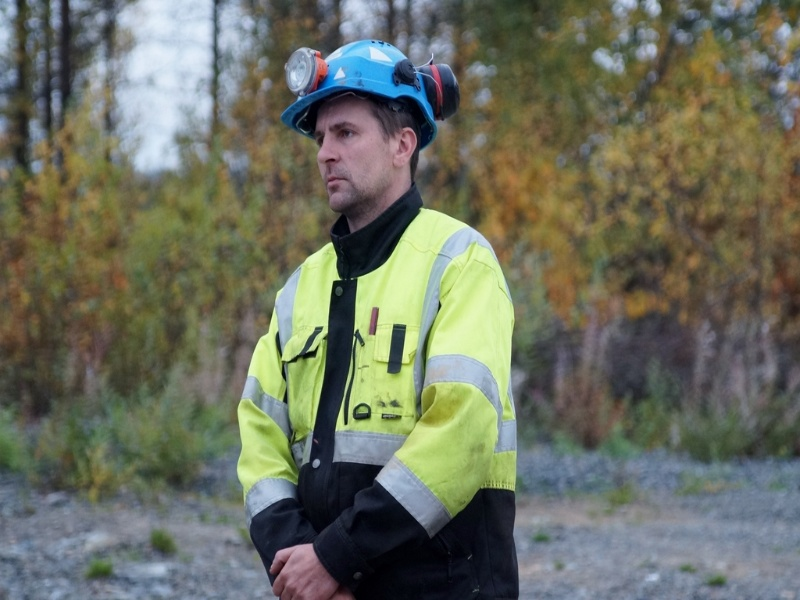Baret: (280, 38, 438, 133)
